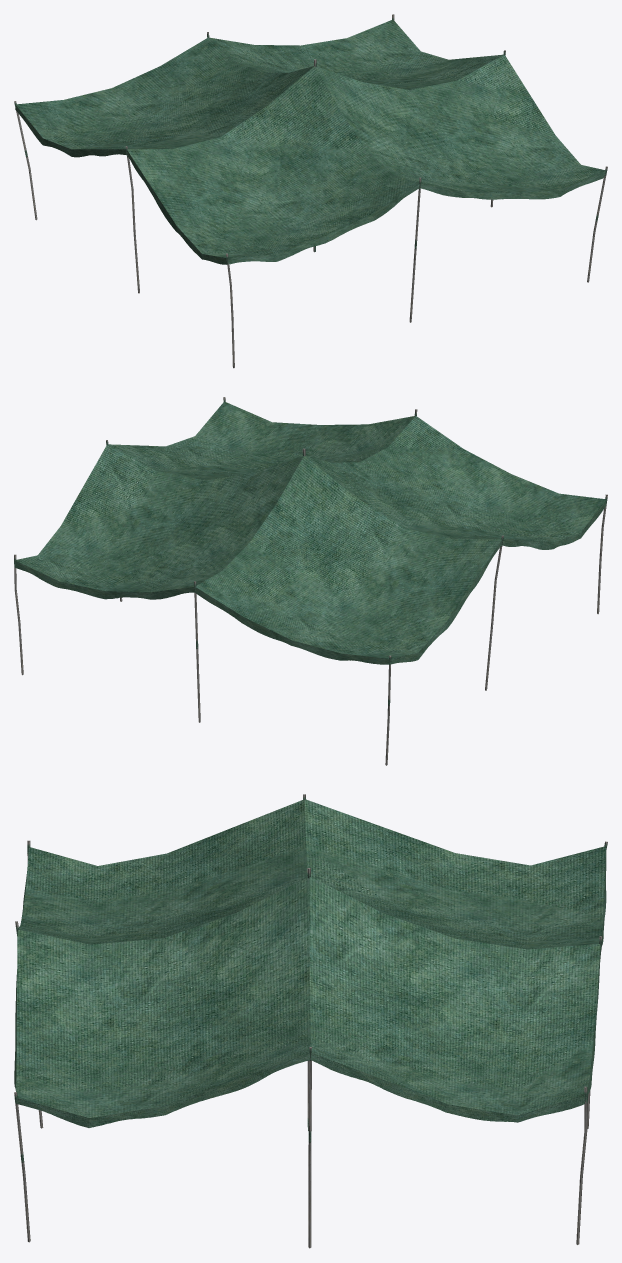
Rendered from poi_nboo_tent_large_l1.fbx.
The picture shows the model from 3 angles, top to bottom: view 1: azimuth 30°, elevation 25°; view 2: azimuth 150°, elevation 25°; view 3: azimuth 270°, elevation 25°; orthographic projection. The views are drawn at different scales.
Parts seen in each view (by area): view 1: mesh_node; view 2: mesh_node; view 3: mesh_node.
Boxes of the visible parts, left/top/right/bottom form: mesh_node: left=14, top=14, right=607, bottom=368; mesh_node: left=14, top=397, right=607, bottom=765; mesh_node: left=14, top=794, right=607, bottom=1248.
Bounding box in the file's own units: 10.88 × 5.21 × 10.65.
